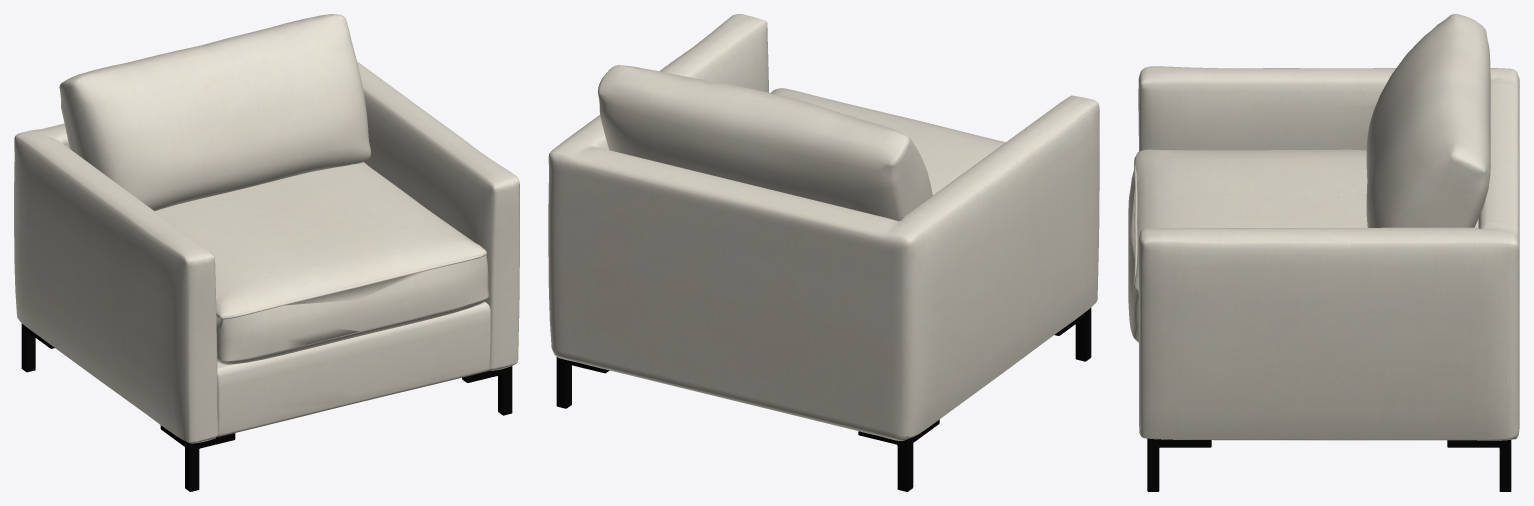
The picture shows the model from 3 angles, left to right: view 1: azimuth 30°, elevation 25°; view 2: azimuth 150°, elevation 25°; view 3: azimuth 270°, elevation 25°; orthographic projection. The views are drawn at different scales.
Parts seen in each view (by area): view 1: RootNode; view 2: RootNode; view 3: RootNode.
Boxes of the visible parts, x1,y1,x2,y2 form: RootNode: (14, 14, 519, 491); RootNode: (548, 14, 1099, 491); RootNode: (1128, 14, 1519, 491).
Size of the model in its own units: 0.9639 by 0.806 by 0.8754.
1 material, 1 textured.
